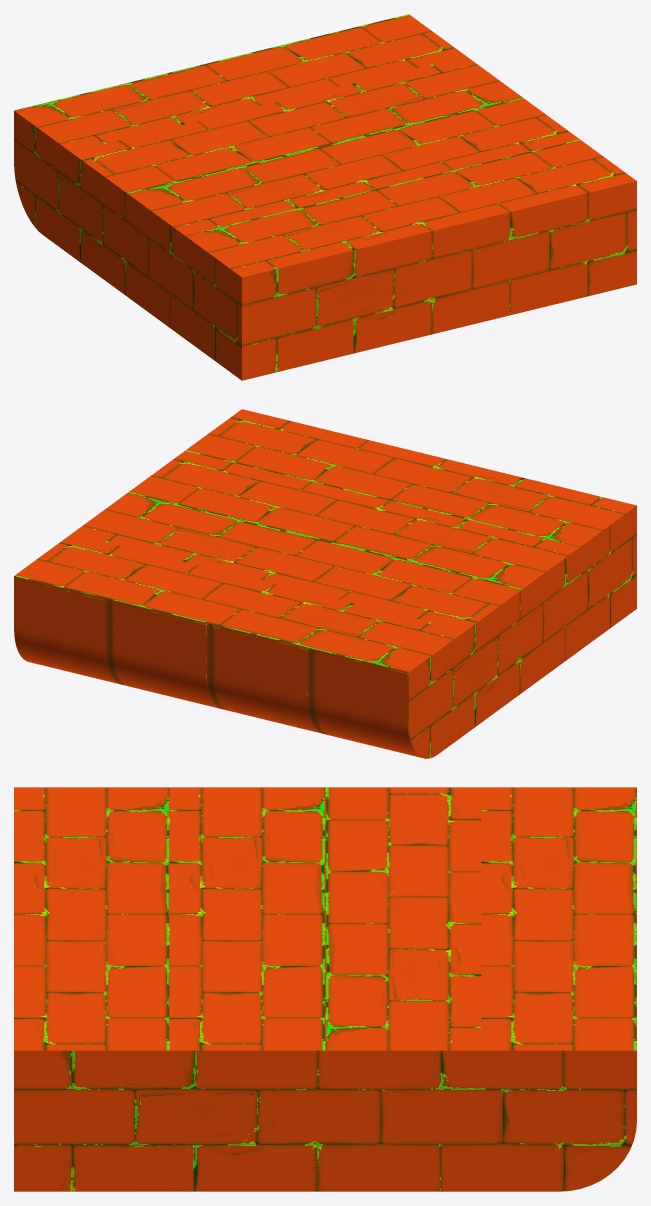
File: Ceiling Block 3.fbx
3 renders of one model, top to bottom at view 1: azimuth 30°, elevation 25°; view 2: azimuth 150°, elevation 25°; view 3: azimuth 270°, elevation 25°, orthographic. The views are drawn at different scales.
Parts seen in each view (by area): view 1: pCube16; view 2: pCube16; view 3: pCube16.
Part boxes in pixels (x1,y1,x2,y2): pCube16: (14, 14, 636, 380); pCube16: (14, 409, 636, 758); pCube16: (14, 787, 636, 1191).
Bounding box in the file's own units: 200 × 50 × 200.
